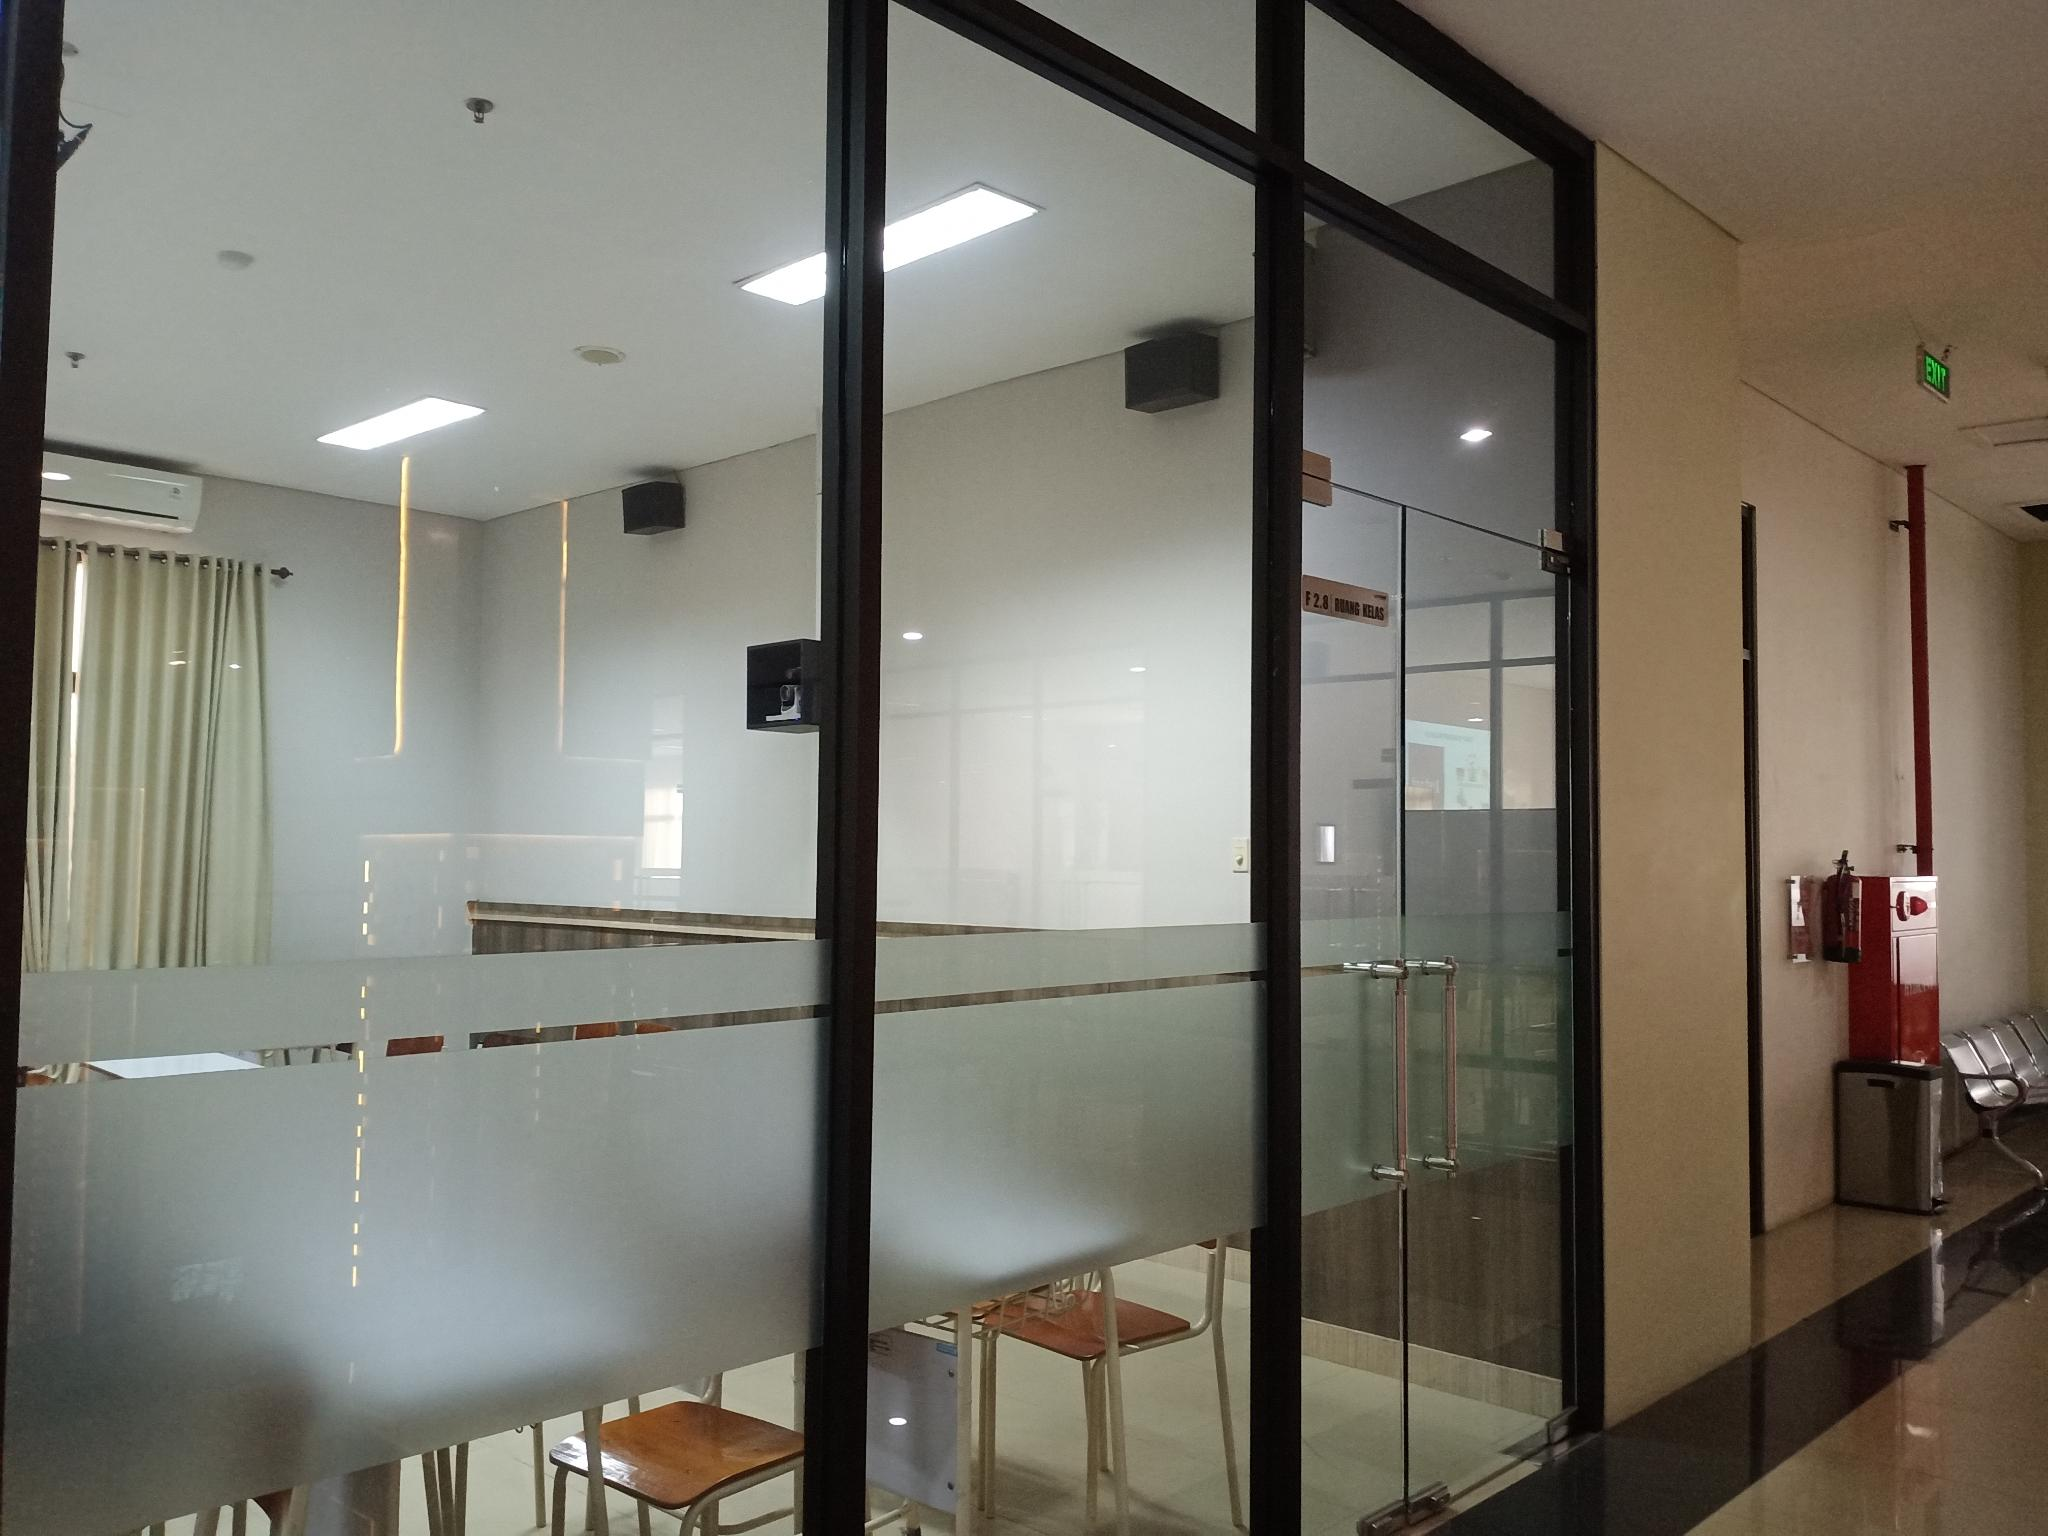plate: (1301, 573, 1390, 629)
